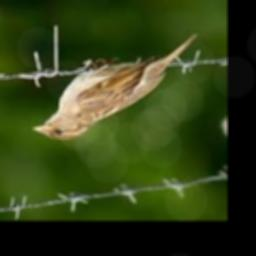Sparrow: (31, 34, 199, 140)
